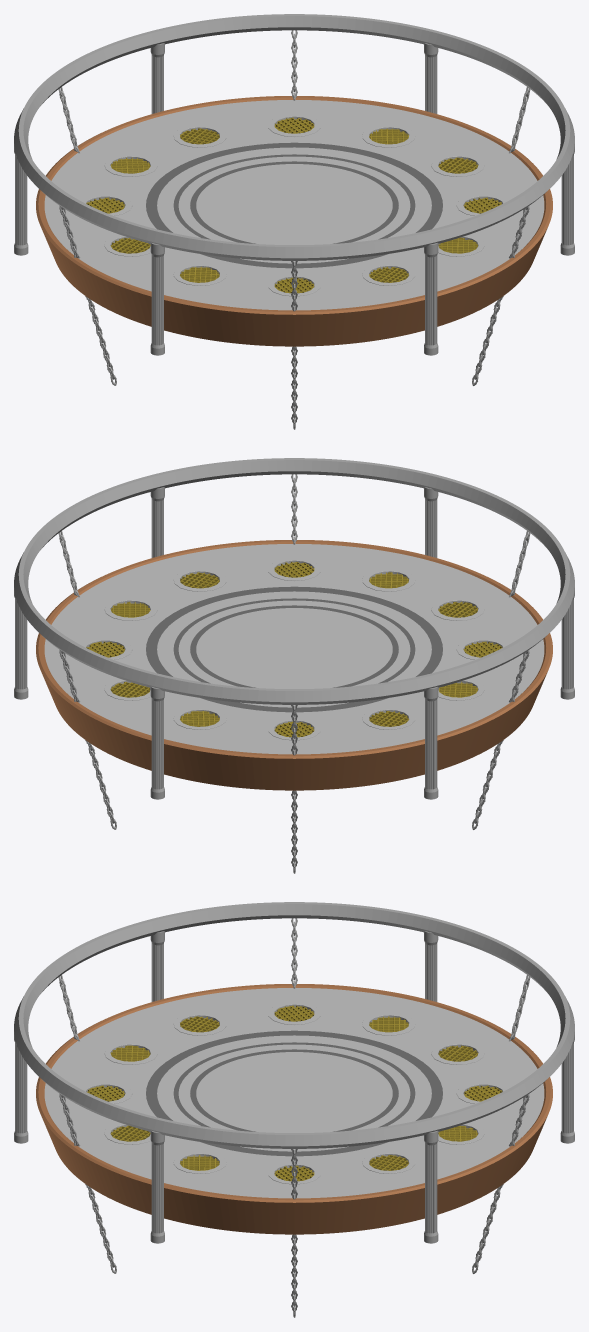
The model's file is platform.fbx.
3 renders of one model, top to bottom at view 1: azimuth 30°, elevation 25°; view 2: azimuth 150°, elevation 25°; view 3: azimuth 270°, elevation 25°, orthographic.
Parts seen in each view (by area): view 1: SM_platform, SM_gantry, SM_pillar5, SM_pillar, SM_pillar1, SM_pillar4, SM_pillar2, SM_pillar3, SM_chains, SM_chains2, SM_chains1; view 2: SM_platform, SM_gantry, SM_pillar3, SM_pillar4, SM_pillar2, SM_pillar5, SM_pillar1, SM_pillar, SM_chains4, SM_chains, SM_chains5; view 3: SM_platform, SM_gantry, SM_pillar1, SM_pillar2, SM_pillar3, SM_pillar, SM_pillar4, SM_pillar5, SM_chains2, SM_chains4, SM_chains3.
Part boxes in pixels (bbox=[...]): SM_platform: bbox=[36, 96, 552, 346]; SM_gantry: bbox=[14, 14, 574, 260]; SM_pillar5: bbox=[150, 243, 164, 355]; SM_pillar: bbox=[424, 243, 438, 355]; SM_pillar1: bbox=[560, 144, 574, 255]; SM_pillar4: bbox=[14, 144, 28, 255]; SM_pillar2: bbox=[424, 43, 438, 113]; SM_pillar3: bbox=[150, 43, 164, 113]; SM_chains: bbox=[59, 206, 116, 385]; SM_chains2: bbox=[472, 206, 529, 385]; SM_chains1: bbox=[291, 261, 297, 429]; SM_platform: bbox=[36, 540, 552, 790]; SM_gantry: bbox=[14, 458, 574, 704]; SM_pillar3: bbox=[150, 687, 164, 799]; SM_pillar4: bbox=[424, 687, 438, 799]; SM_pillar2: bbox=[14, 588, 28, 699]; SM_pillar5: bbox=[560, 588, 574, 699]; SM_pillar1: bbox=[150, 487, 164, 557]; SM_pillar: bbox=[424, 487, 438, 557]; SM_chains4: bbox=[59, 650, 116, 829]; SM_chains: bbox=[472, 650, 529, 829]; SM_chains5: bbox=[291, 705, 297, 873]; SM_platform: bbox=[36, 984, 552, 1234]; SM_gantry: bbox=[14, 902, 574, 1148]; SM_pillar1: bbox=[150, 1131, 164, 1243]; SM_pillar2: bbox=[424, 1131, 438, 1243]; SM_pillar3: bbox=[560, 1032, 574, 1143]; SM_pillar: bbox=[14, 1032, 28, 1143]; SM_pillar4: bbox=[424, 931, 438, 1001]; SM_pillar5: bbox=[150, 931, 164, 1001]; SM_chains2: bbox=[59, 1094, 116, 1273]; SM_chains4: bbox=[472, 1094, 529, 1273]; SM_chains3: bbox=[291, 1149, 297, 1317].
Bounding box in the file's own units: 43.98 × 18.32 × 43.98.
